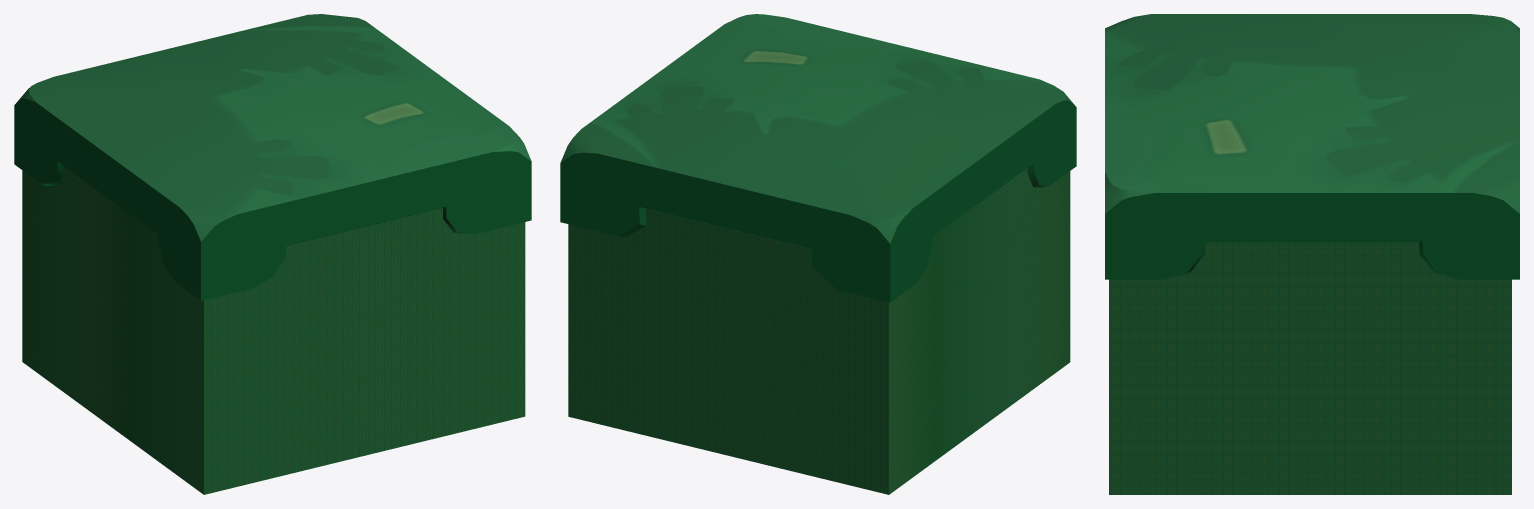
Rendered from cao.FBX.
3 renders of one model, left to right at view 1: azimuth 30°, elevation 25°; view 2: azimuth 150°, elevation 25°; view 3: azimuth 270°, elevation 25°, orthographic. The views are drawn at different scales.
Parts seen in each view (by area): view 1: PBOX33_Grass_02, PBOX33_SUB_Grass_02; view 2: PBOX33_Grass_02, PBOX33_SUB_Grass_02; view 3: PBOX33_SUB_Grass_02, PBOX33_Grass_02.
Part boxes in pixels (box(x1,y1,x2,y2)): PBOX33_Grass_02: box(22, 166, 525, 494); PBOX33_SUB_Grass_02: box(14, 14, 531, 300); PBOX33_Grass_02: box(568, 168, 1070, 494); PBOX33_SUB_Grass_02: box(560, 14, 1076, 302); PBOX33_SUB_Grass_02: box(1105, 14, 1519, 279); PBOX33_Grass_02: box(1109, 242, 1511, 494).
Bounding box in the file's own units: 103 × 86.57 × 101.
